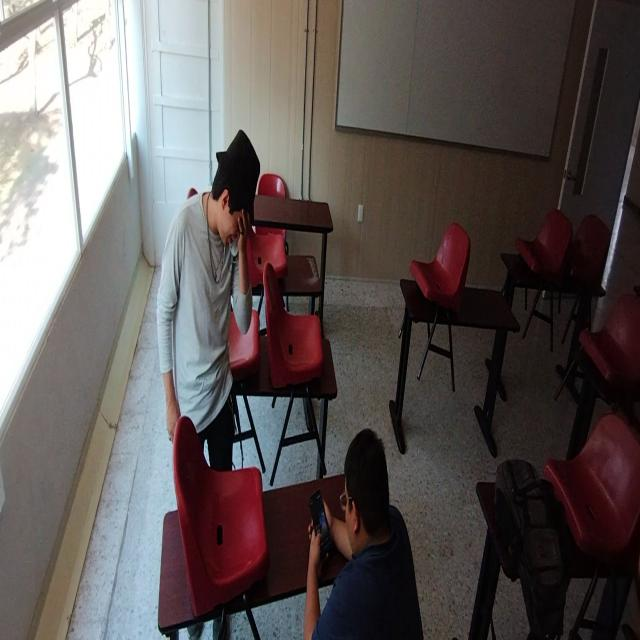adult: (157, 137, 257, 466), (305, 429, 422, 640)
